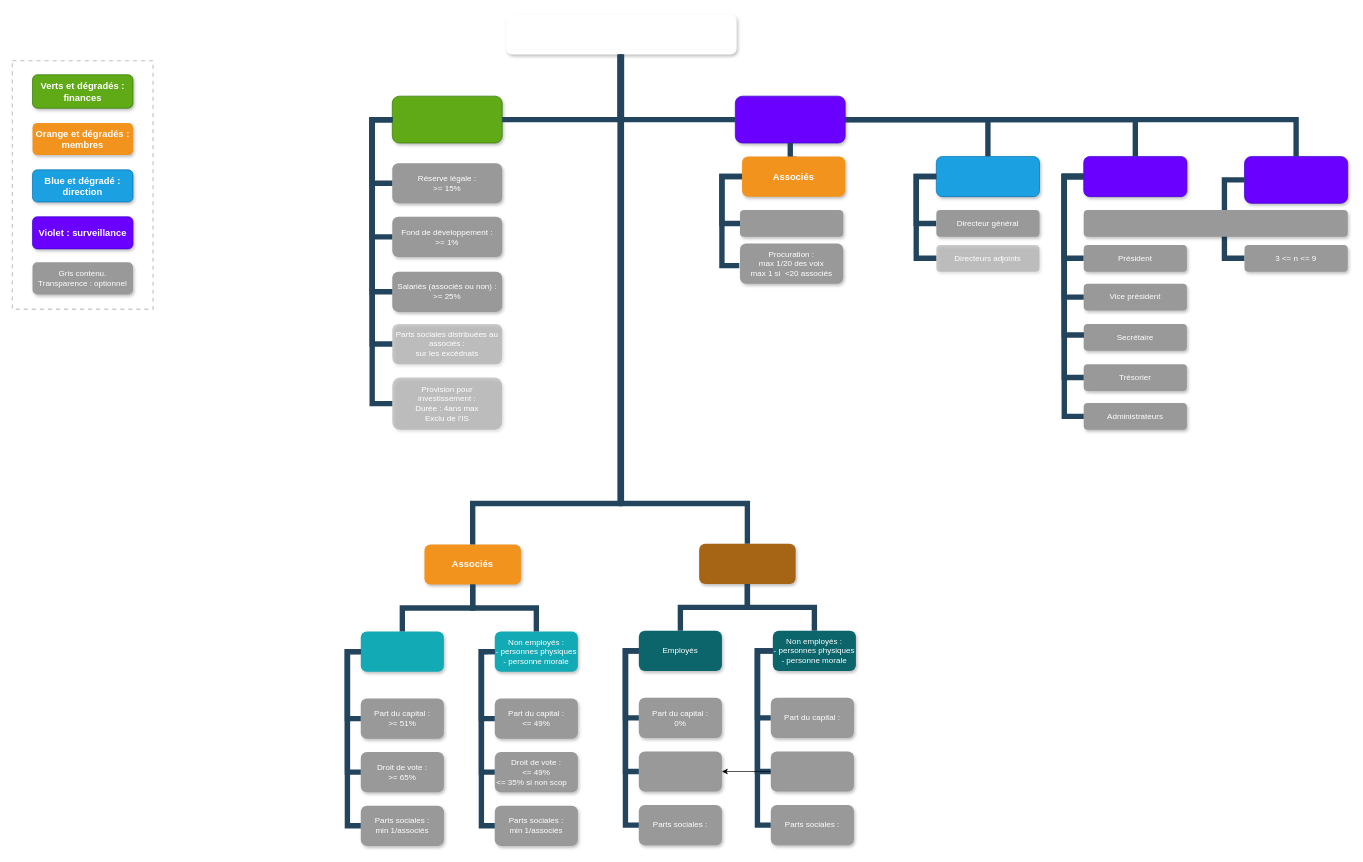
Some shapes in this 1363 by 862 pixel diagram are drawn without their labels. The centre of each missing label's shape, as x and y in pixels:
"1 associé = 1 voix" belongs at point 792,224.
"Assemblée générale 1 / an" belongs at point 790,120.
"Conseil d'administation: mandat max 4 ans" belongs at point 1135,177.
"Conseil de surveillance Si associés > 20 : mandat max 4 ans" belongs at point 1296,180.
"Direction : mandat max 4 ans" belongs at point 988,177.
"Droit de vote :" belongs at point 813,772.
"Droit de vote : 0" belongs at point 681,772.
"Employés : >= 2" belongs at point 403,652.
"ft_scop hypothèse : SAS" belongs at point 621,35.
"Non associés" belongs at point 747,564.
"Remboursement des frais + indemnités compensatrices" belongs at point 1216,224.
"Répartition des bénęfices :" belongs at point 447,120.
